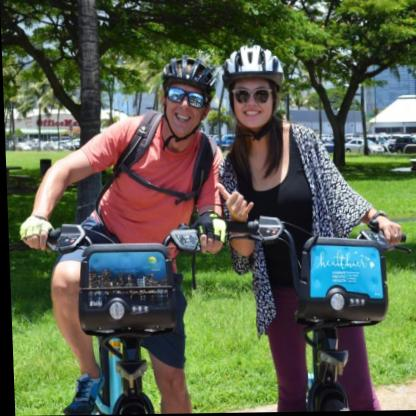With Helmet: (217, 41, 290, 135), (159, 50, 217, 143)
